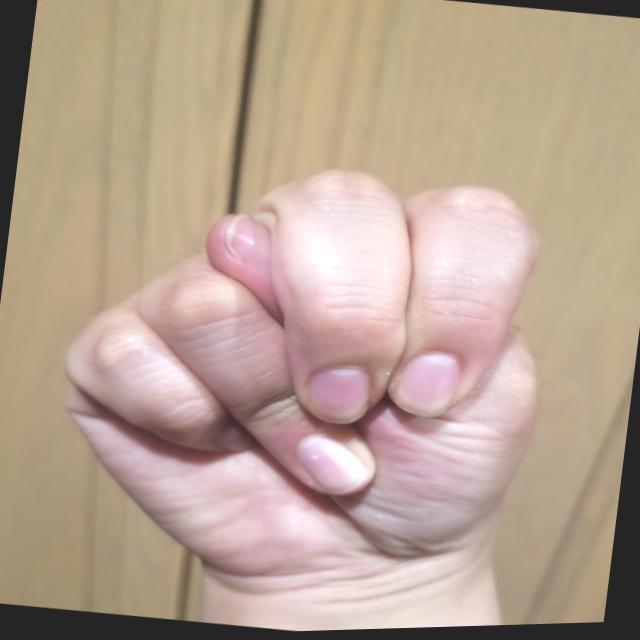N: (28, 127, 584, 625)
